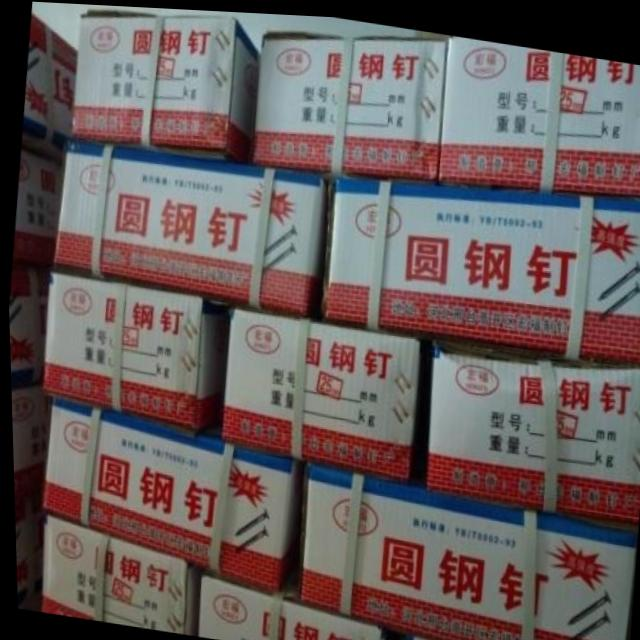box: (319, 168, 640, 361), (293, 458, 633, 640), (38, 398, 301, 591), (52, 139, 325, 316), (410, 335, 640, 524), (218, 287, 427, 478), (437, 32, 640, 188), (39, 270, 228, 432), (251, 27, 446, 177), (71, 12, 259, 162), (37, 511, 197, 632), (191, 568, 385, 640), (20, 9, 77, 164), (12, 149, 64, 267), (7, 261, 53, 387), (9, 384, 51, 500), (12, 487, 40, 597), (385, 623, 454, 640)
